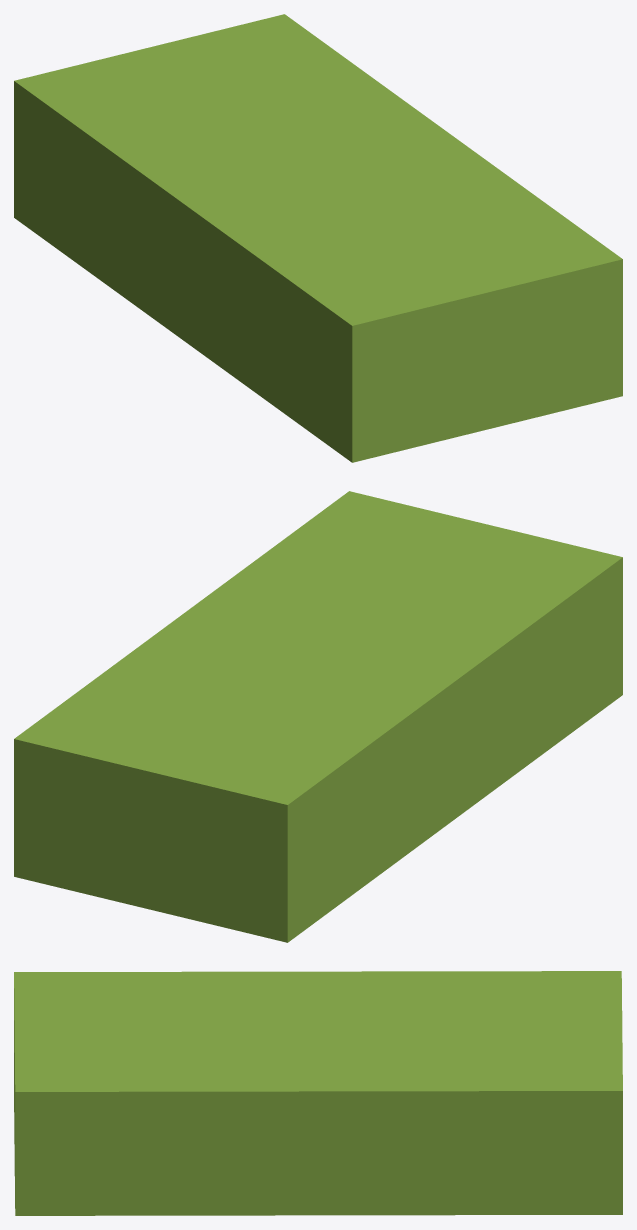
The picture shows the model from 3 angles, top to bottom: view 1: azimuth 30°, elevation 25°; view 2: azimuth 150°, elevation 25°; view 3: azimuth 270°, elevation 25°; orthographic projection. The views are drawn at different scales.
Parts seen in each view (by area): view 1: SM_Shape_Rectangle__01; view 2: SM_Shape_Rectangle__01; view 3: SM_Shape_Rectangle__01.
Boxes of the visible parts, <box> form: SM_Shape_Rectangle__01: <box>14,14,622,462</box>; SM_Shape_Rectangle__01: <box>14,491,622,942</box>; SM_Shape_Rectangle__01: <box>14,971,622,1215</box>.
Bounding box in the file's own units: 3.64 × 1.74 × 7.73.
